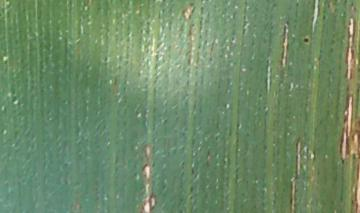tarspot: (300, 33, 314, 48)
